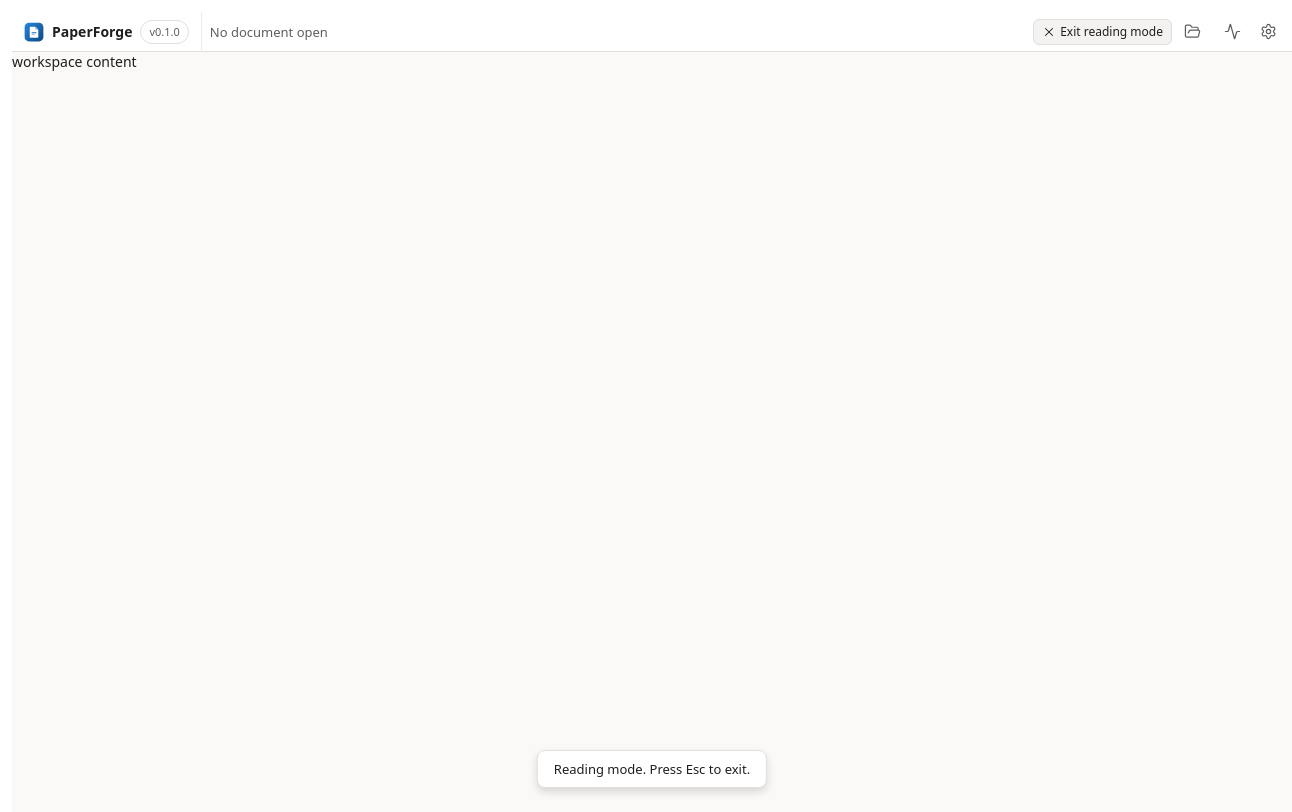
Test case: AppShell layout › offers an exit button when the pointer goes to the top of the window
Click the button "Exit reading mode" at (1103, 32), box [1033,18,1172,44]
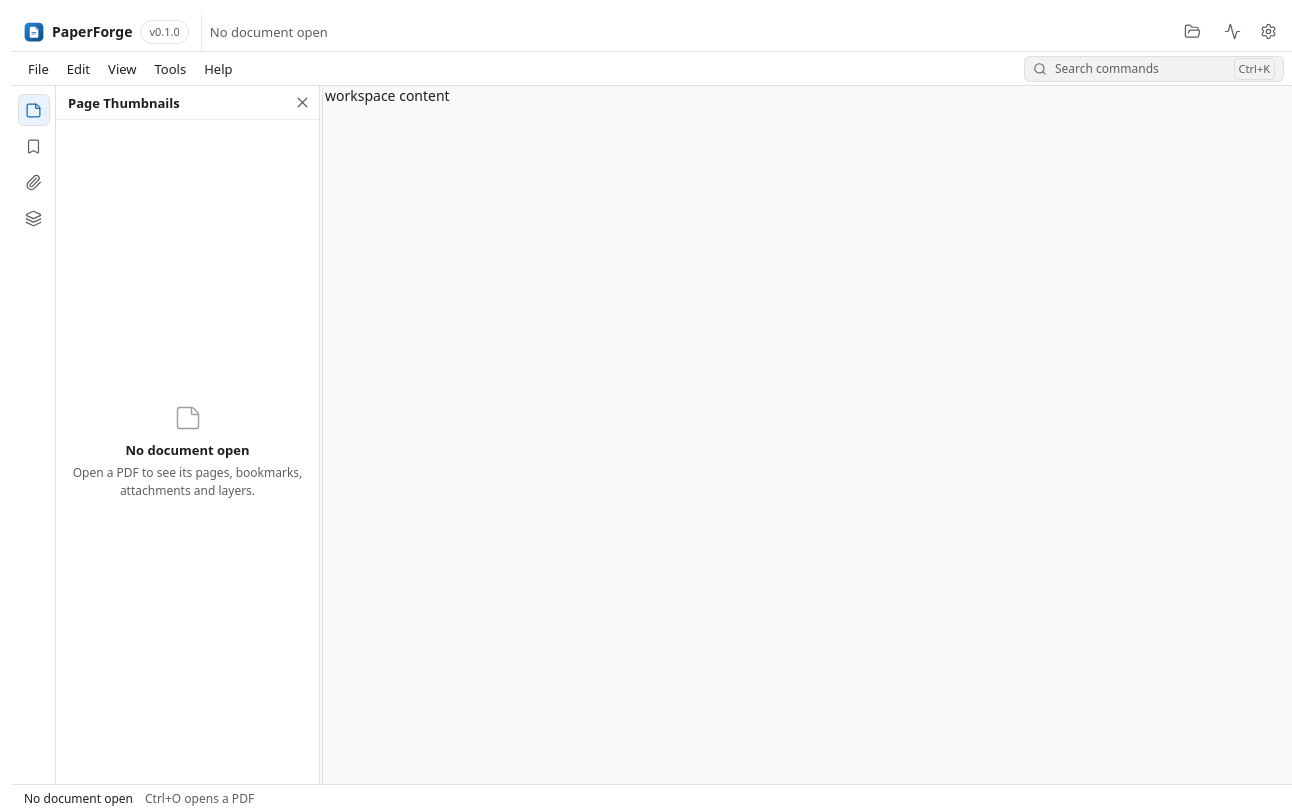
Now the element named "Main menu" is shown, box [20,56,240,82]
